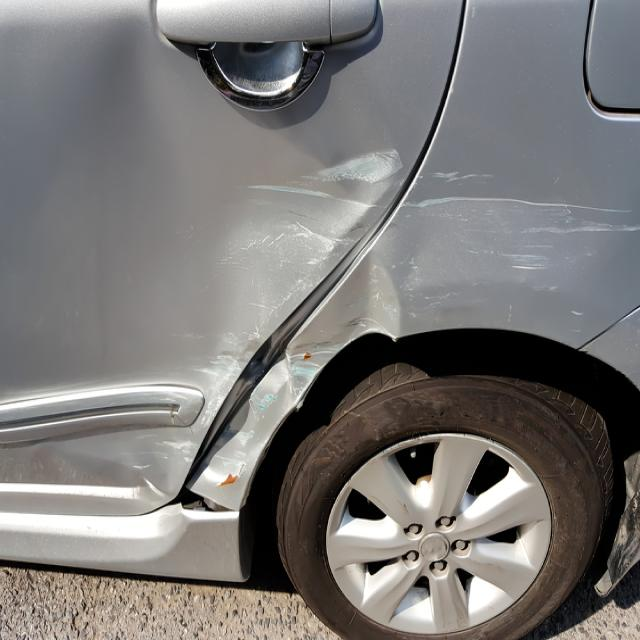dent: (21, 15, 401, 499), (205, 246, 402, 488)
scratch: (371, 171, 640, 323)
